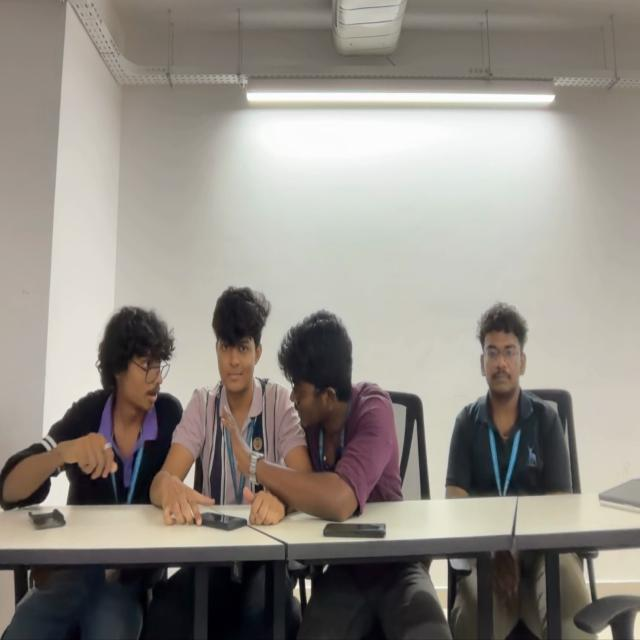Isolated: (444, 302, 571, 496)
socializing: (0, 287, 402, 519)
